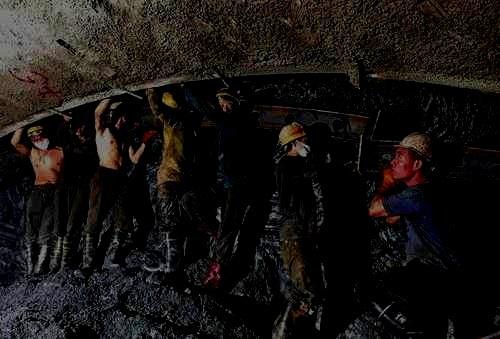helmet: (391, 131, 435, 179), (278, 122, 311, 157), (212, 88, 240, 113), (26, 126, 51, 151), (108, 101, 127, 129)
